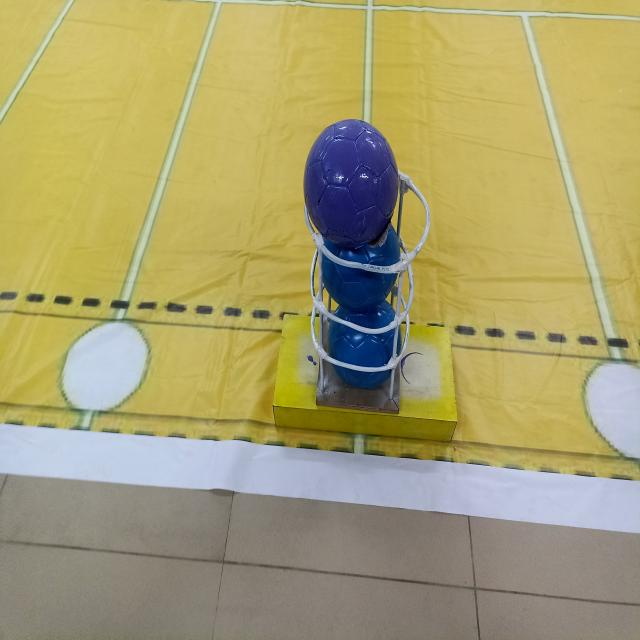blue_ball: (326, 299, 396, 388), (327, 223, 393, 311)
purple_ball: (304, 120, 394, 252)
silo: (302, 173, 441, 457)
